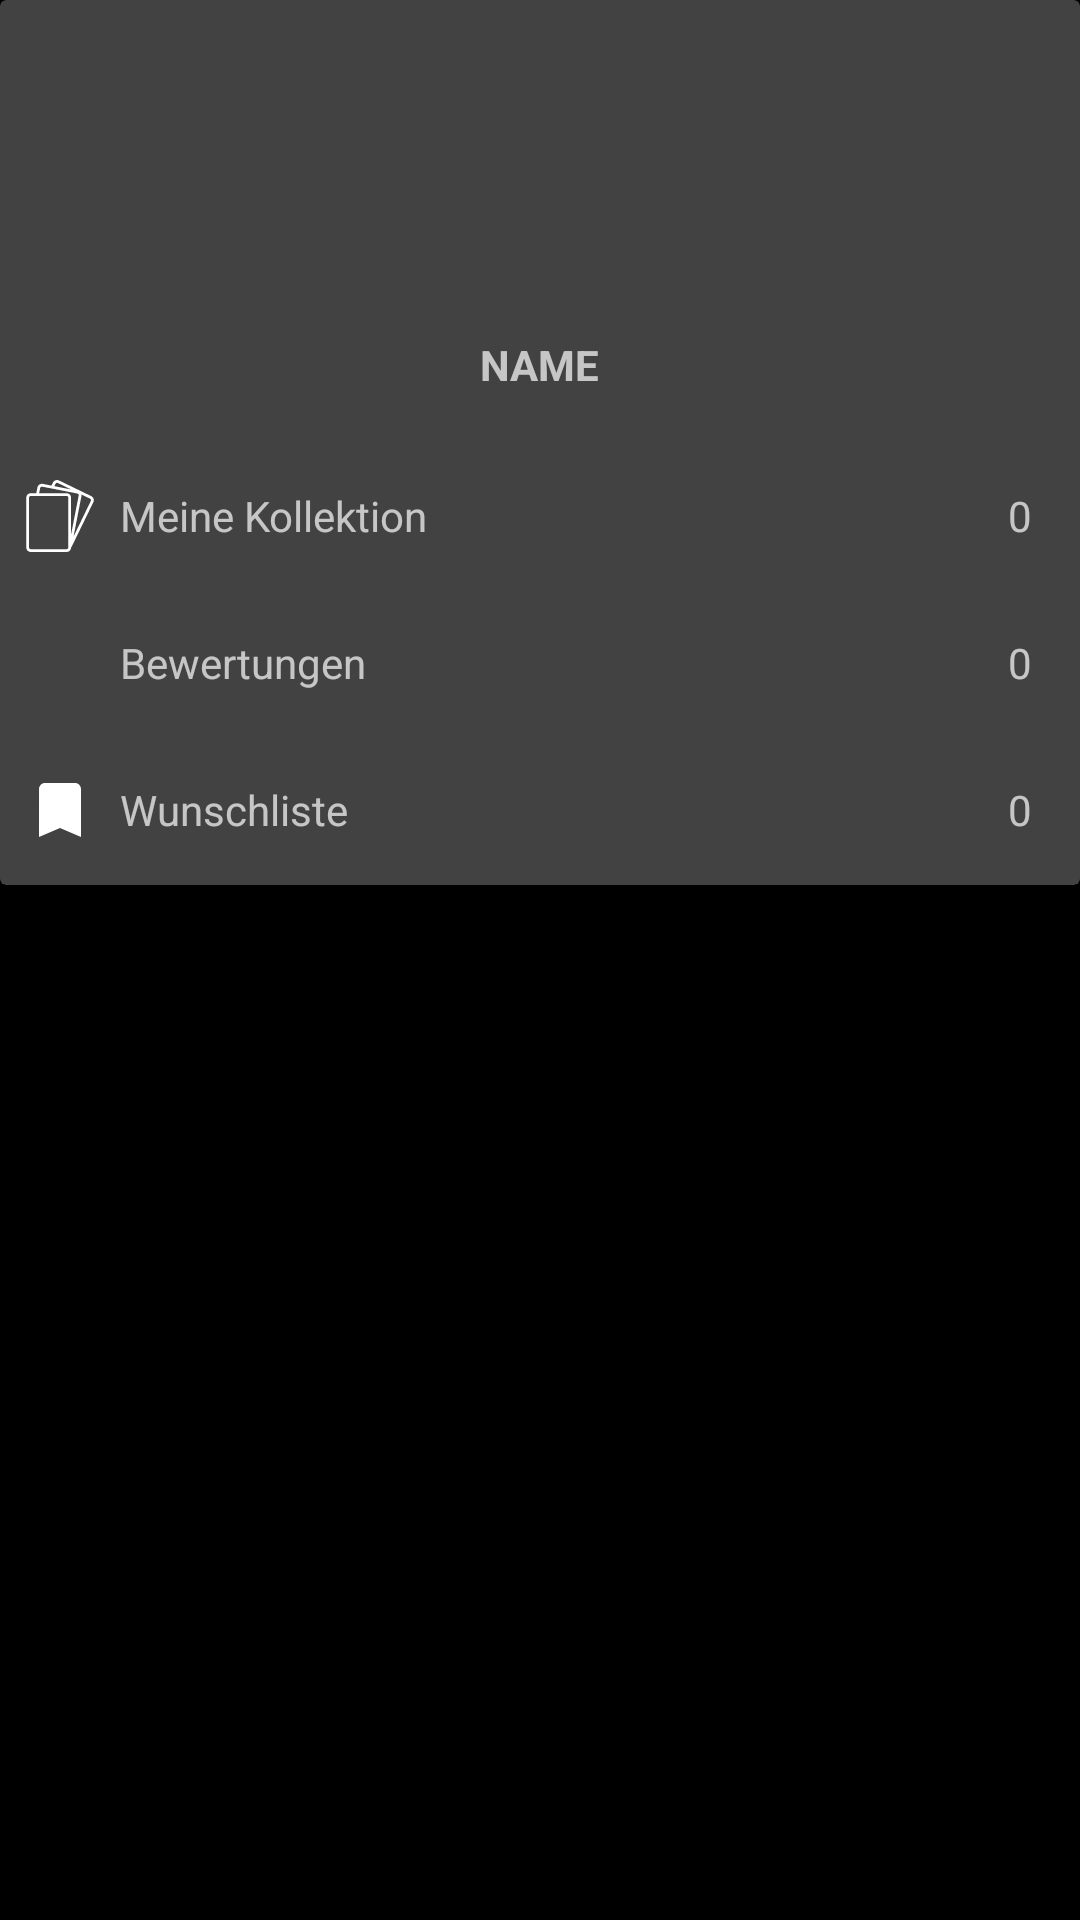

Screen size 1080px x 1920px. Icon name, then its center in pixels as [x,y]:
bookmark: [60,810]
collection: [60,516]
